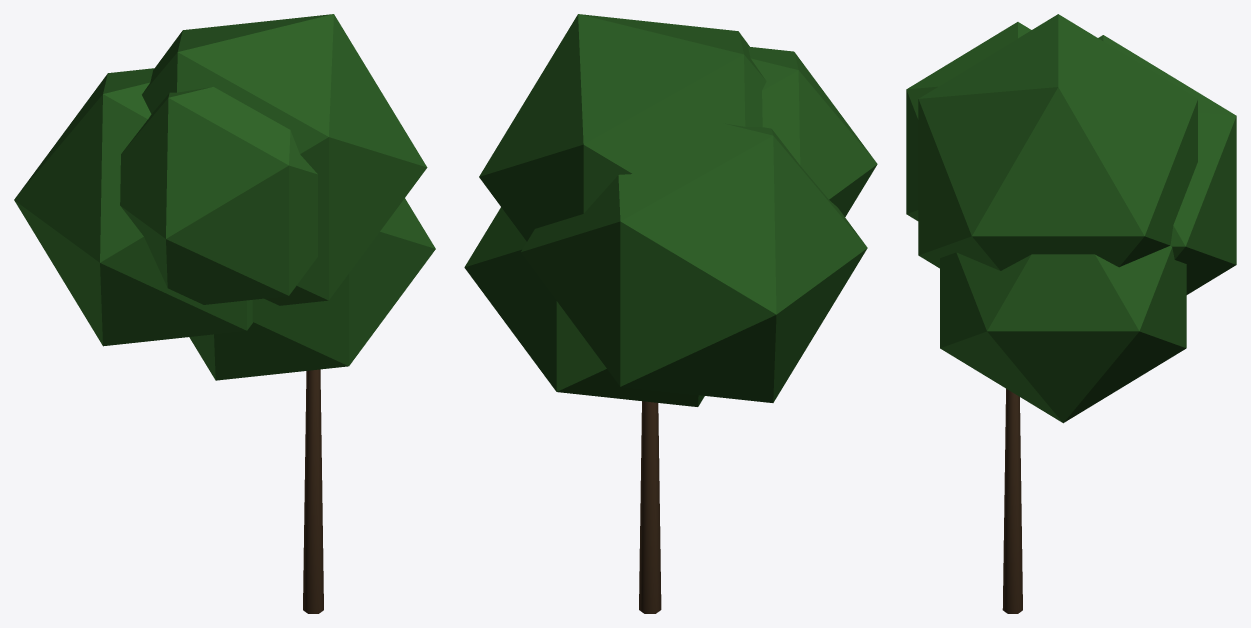
The model's file is arvore_tropical.glb.
3 views of the same model, side by side, from view 1: azimuth 30°, elevation 25°; view 2: azimuth 150°, elevation 25°; view 3: azimuth 270°, elevation 25° (orthographic). The views are drawn at different scales.
Visible parts, largest first — view 1: arvore_tropical_liso; view 2: arvore_tropical_liso; view 3: arvore_tropical_liso.
Part boxes in pixels (x1,y1,x2,y2): arvore_tropical_liso: [14, 14, 435, 613]; arvore_tropical_liso: [464, 14, 877, 613]; arvore_tropical_liso: [906, 14, 1236, 613].
Bounding box in the file's own units: 6.95 × 11.85 × 6.52.
